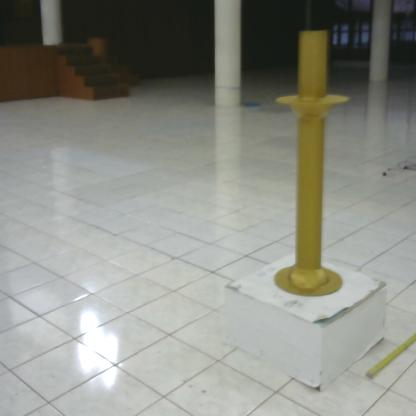pole: (270, 25, 354, 297)
